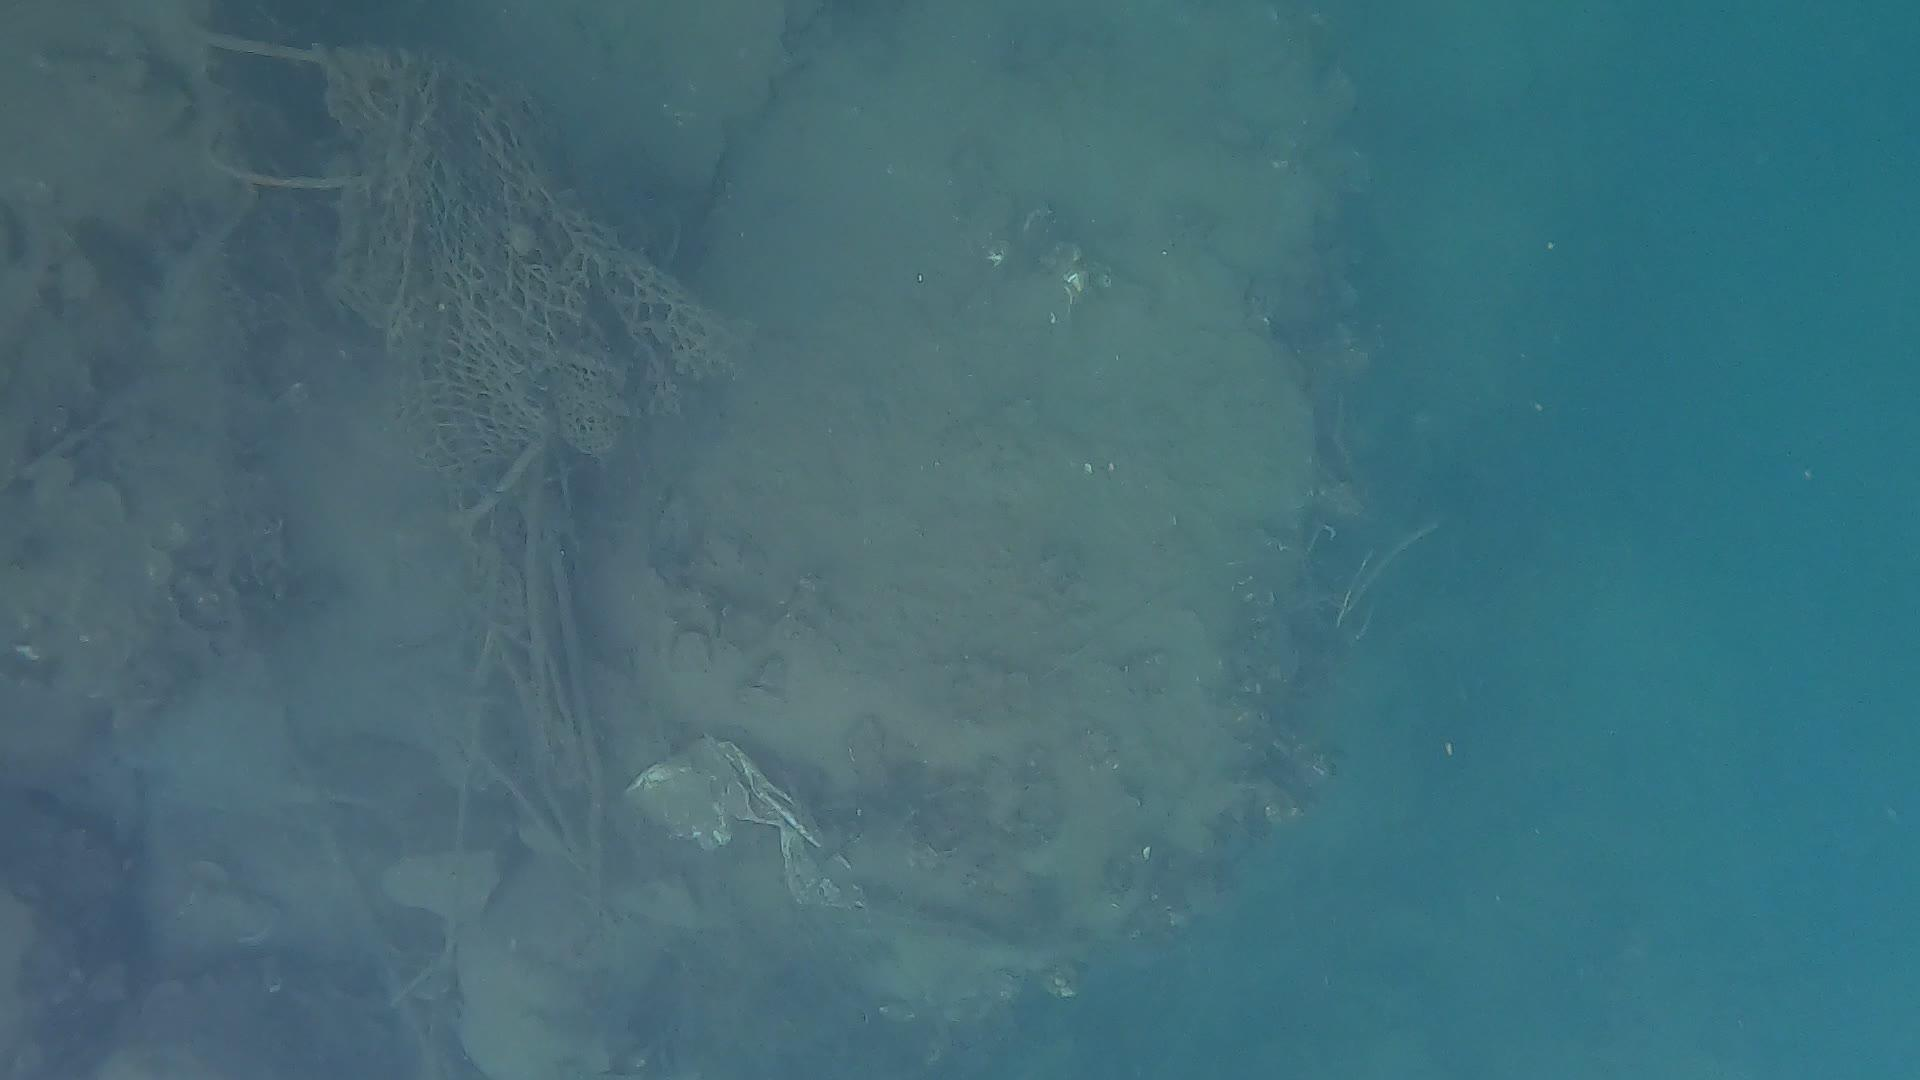fish net: (327, 46, 709, 469)
